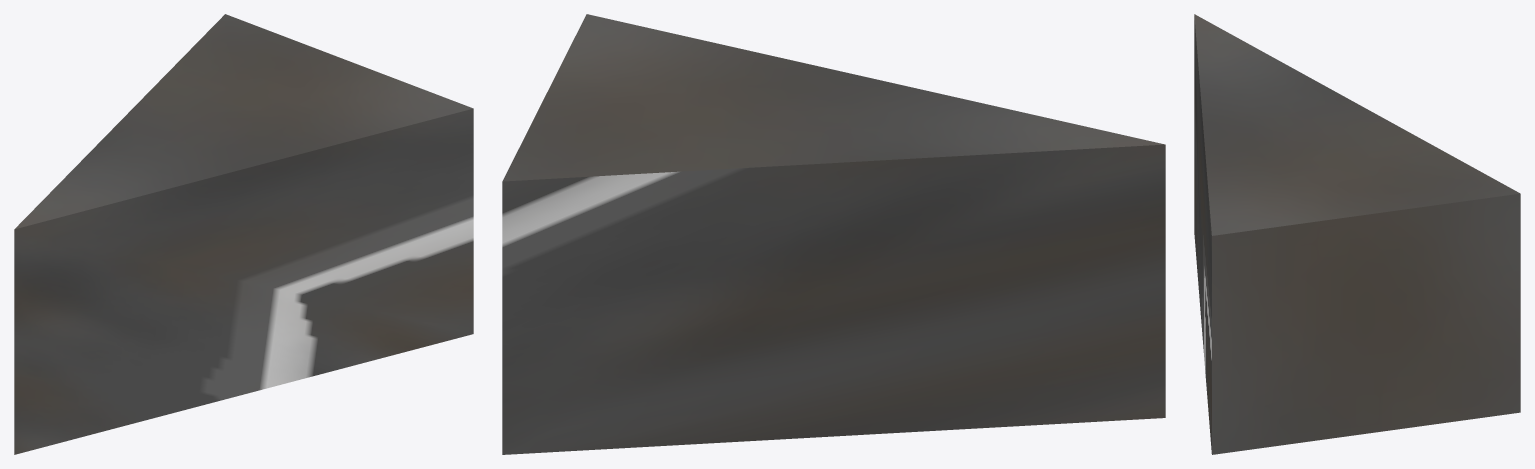
The model's file is ishi_01_10_5.fbx.
3 renders of one model, left to right at view 1: azimuth 30°, elevation 25°; view 2: azimuth 150°, elevation 25°; view 3: azimuth 270°, elevation 25°, orthographic. The views are drawn at different scales.
Visible parts, largest first — view 1: polySurface14; view 2: polySurface14; view 3: polySurface14.
Boxes of the visible parts, left/top/right/bottom form: polySurface14: left=14, top=14, right=473, bottom=454; polySurface14: left=502, top=14, right=1165, bottom=454; polySurface14: left=1194, top=14, right=1520, bottom=454.
Bounding box in the file's own units: 10.13 × 4.66 × 6.29.
Materials: 1 (1 with a texture image).
